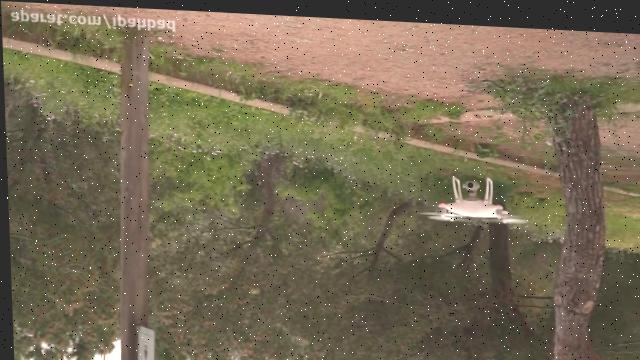drone: (413, 168, 527, 222)
